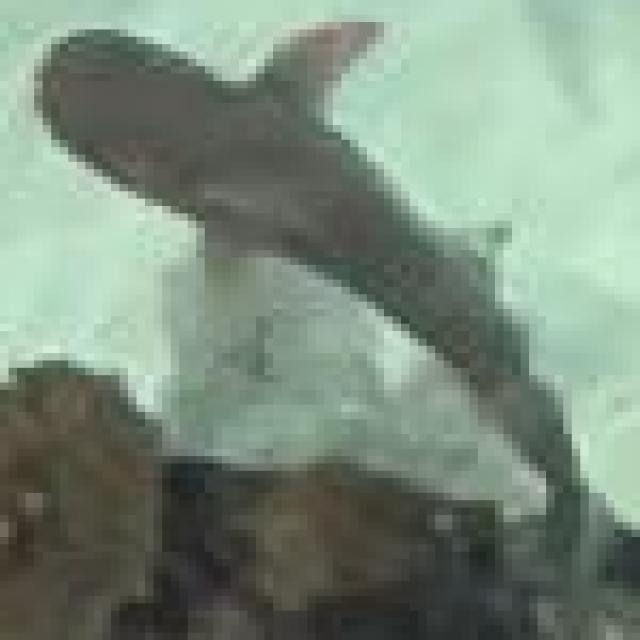fish: (8, 1, 640, 633)
